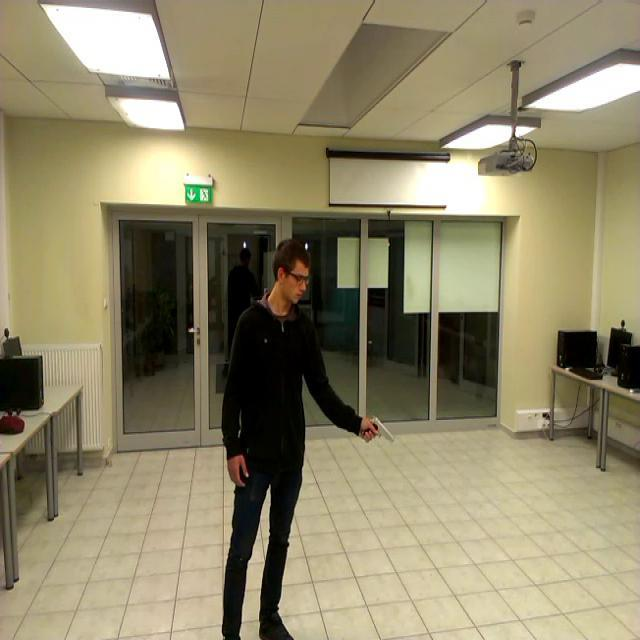Gun: (364, 415, 396, 442)
